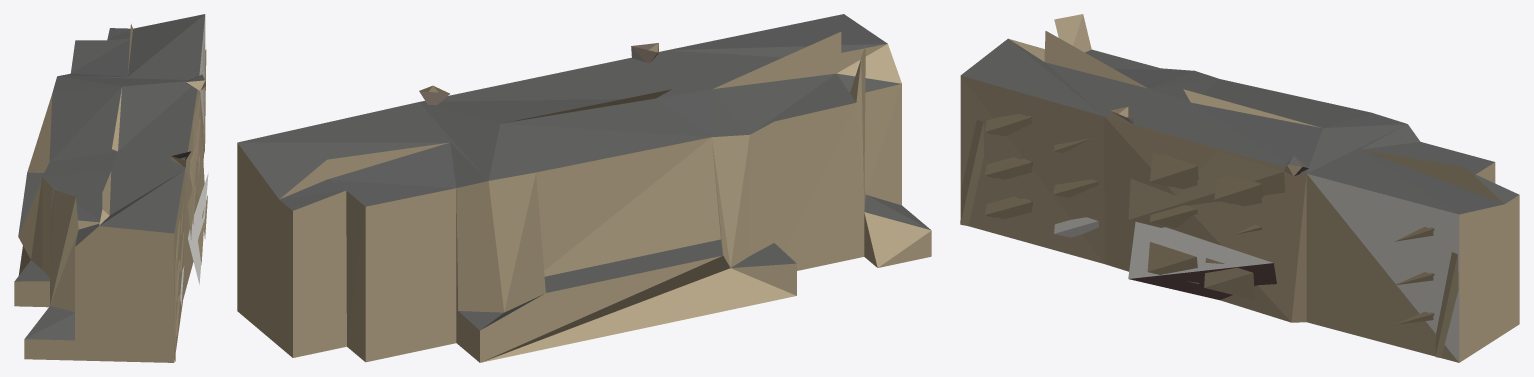
The model's file is olympus-hygieaplein.lod2.glb.
3 views of the same model, side by side, from view 1: azimuth 30°, elevation 25°; view 2: azimuth 150°, elevation 25°; view 3: azimuth 270°, elevation 25° (orthographic). The views are drawn at different scales.
Parts seen in each view (by area): view 1: lod2; view 2: lod2; view 3: lod2.
Part boxes in pixels (x1,y1,x2,y2): lod2: (14, 14, 208, 362); lod2: (237, 14, 931, 362); lod2: (960, 14, 1519, 362).
Bounding box in the file's own units: 41.69 × 16.91 × 49.25.
